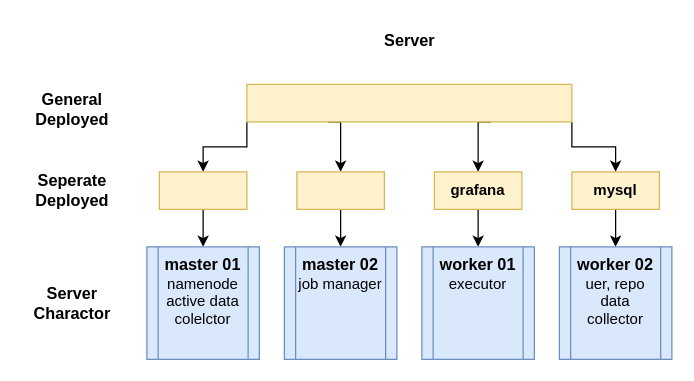
Some shapes in this 694 by 381 pixel diagram are drawn without their labels. The box of each missing label's shape, as (x1, y1, x2, y2) in pixels:
flume: (158, 171, 247, 209)
mongoDB: (296, 171, 384, 209)
Zookeeper Kafka HDFS HIVE Spark: (246, 83, 572, 122)
